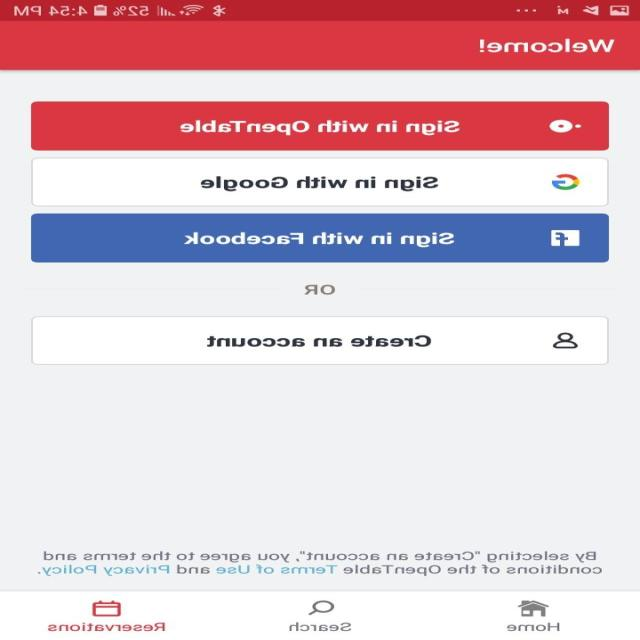Icon: (92, 599, 122, 616), (308, 600, 336, 615)
Image: (518, 599, 550, 616)
Text: (38, 550, 604, 576), (479, 39, 615, 53), (48, 621, 166, 631), (289, 621, 352, 631), (506, 622, 560, 631), (304, 284, 337, 295)
TextButton: (31, 315, 609, 365), (31, 102, 609, 151), (31, 157, 609, 206), (31, 213, 609, 262)
